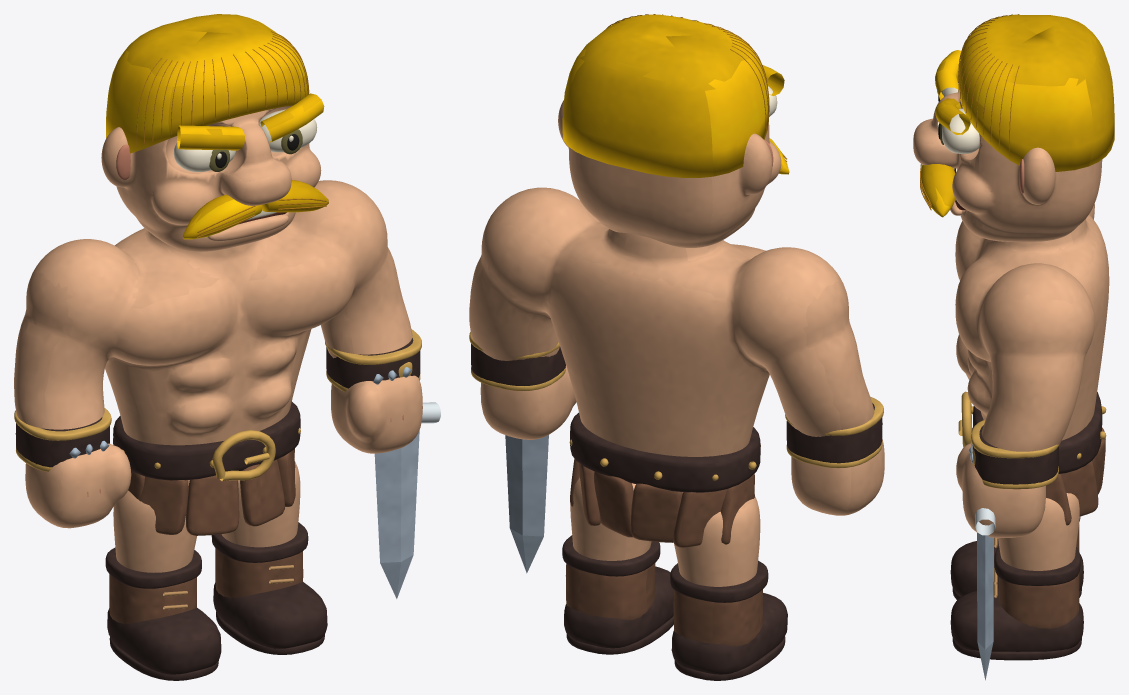
File: barbarian.glb
The picture shows the model from 3 angles, left to right: view 1: azimuth 30°, elevation 25°; view 2: azimuth 150°, elevation 25°; view 3: azimuth 270°, elevation 25°; orthographic projection. The views are drawn at different scales.
Parts seen in each view (by area): view 1: Body_Sculpt, Body_Leather_edges, Head_Golden_hair, Body_Worn_saddle_leather, Face_Sculpt, Sword blade, Body_Brass_fittings, Head_Hair_grooves, Head_Ivory, Lower lip; view 2: Body_Sculpt, Head_Golden_hair, Body_Leather_edges, Body_Worn_saddle_leather, Face_Sculpt, Sword blade, Body_Brass_fittings, Head_Hair_grooves; view 3: Body_Sculpt, Head_Golden_hair, Face_Sculpt, Body_Leather_edges, Body_Worn_saddle_leather, Sword blade, Body_Brass_fittings, Head_Hair_grooves, Head_Ivory, Crossguard.
Part boxes in pixels (x1,y1,x2,y2): Body_Sculpt: (14, 180, 422, 572); Body_Leather_edges: (15, 338, 420, 680); Head_Golden_hair: (106, 14, 328, 239); Body_Worn_saddle_leather: (109, 448, 303, 623); Face_Sculpt: (101, 105, 321, 251); Sword blade: (374, 430, 419, 598); Body_Brass_fittings: (14, 329, 421, 481); Head_Hair_grooves: (136, 31, 326, 237); Head_Ivory: (173, 109, 317, 220); Lower lip: (207, 214, 288, 241); Body_Sculpt: (469, 187, 884, 586); Head_Golden_hair: (562, 14, 789, 177); Body_Leather_edges: (471, 344, 882, 680); Body_Worn_saddle_leather: (565, 459, 762, 646); Face_Sculpt: (558, 100, 781, 247); Sword blade: (505, 435, 548, 573); Body_Brass_fittings: (469, 332, 883, 480); Head_Hair_grooves: (606, 14, 786, 161); Body_Sculpt: (955, 204, 1109, 570); Head_Golden_hair: (920, 14, 1114, 217); Face_Sculpt: (913, 92, 1102, 241); Body_Leather_edges: (950, 392, 1102, 660); Body_Worn_saddle_leather: (972, 427, 1105, 628); Sword blade: (977, 524, 993, 680); Body_Brass_fittings: (958, 391, 1106, 489); Head_Hair_grooves: (920, 14, 1019, 210); Head_Ivory: (937, 83, 979, 200); Crossguard: (975, 508, 995, 535).
Size of the model in its own units: 1.54 by 2.24 by 0.696.
Materials: 14 (6 with a texture image).
